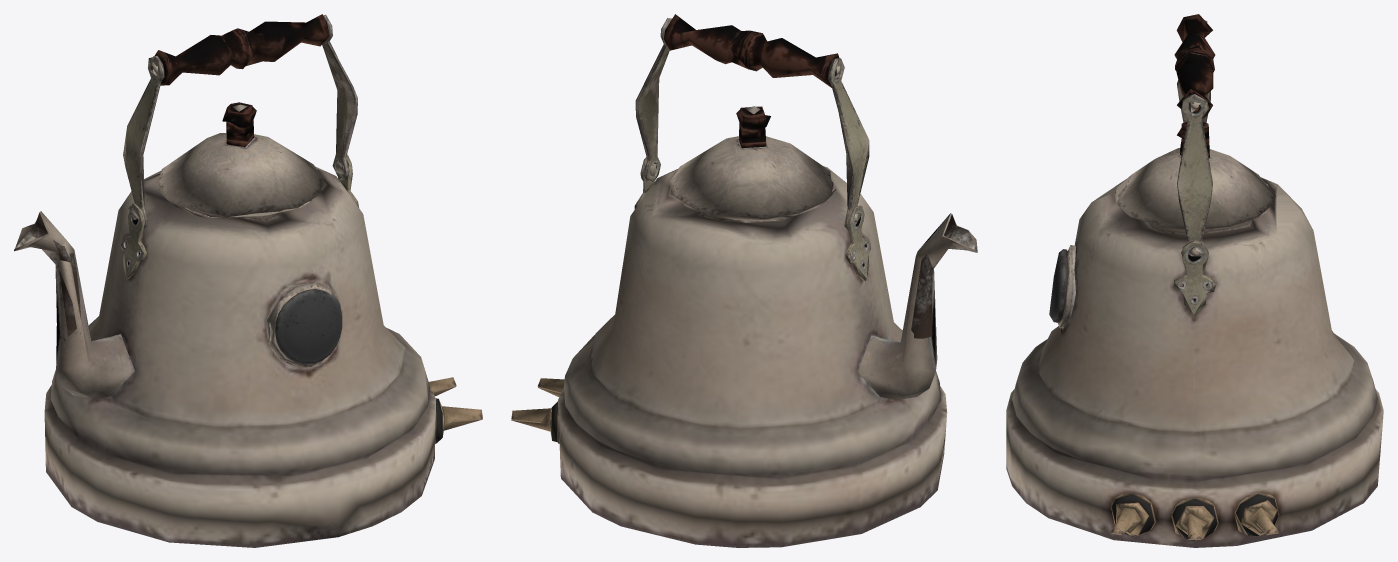
3 views of the same model, side by side, from view 1: azimuth 30°, elevation 25°; view 2: azimuth 150°, elevation 25°; view 3: azimuth 270°, elevation 25° (orthographic). The views are drawn at different scales.
Parts seen in each view (by area): view 1: vintage_electric_kettle; view 2: vintage_electric_kettle; view 3: vintage_electric_kettle.
Part boxes in pixels (x1,y1,x2,y2): vintage_electric_kettle: (14, 14, 482, 547); vintage_electric_kettle: (511, 14, 977, 547); vintage_electric_kettle: (1006, 14, 1383, 547).
Bounding box in the file's own units: 0.3201 × 0.3035 × 0.2478.
2 materials, 2 textured.
